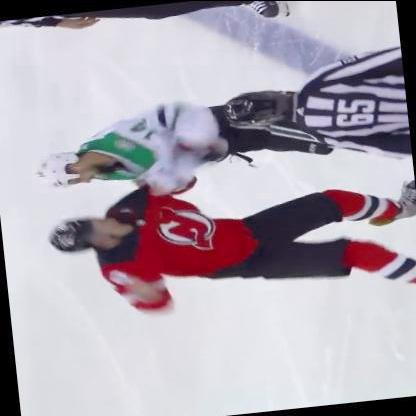voilence: (30, 92, 320, 324)
